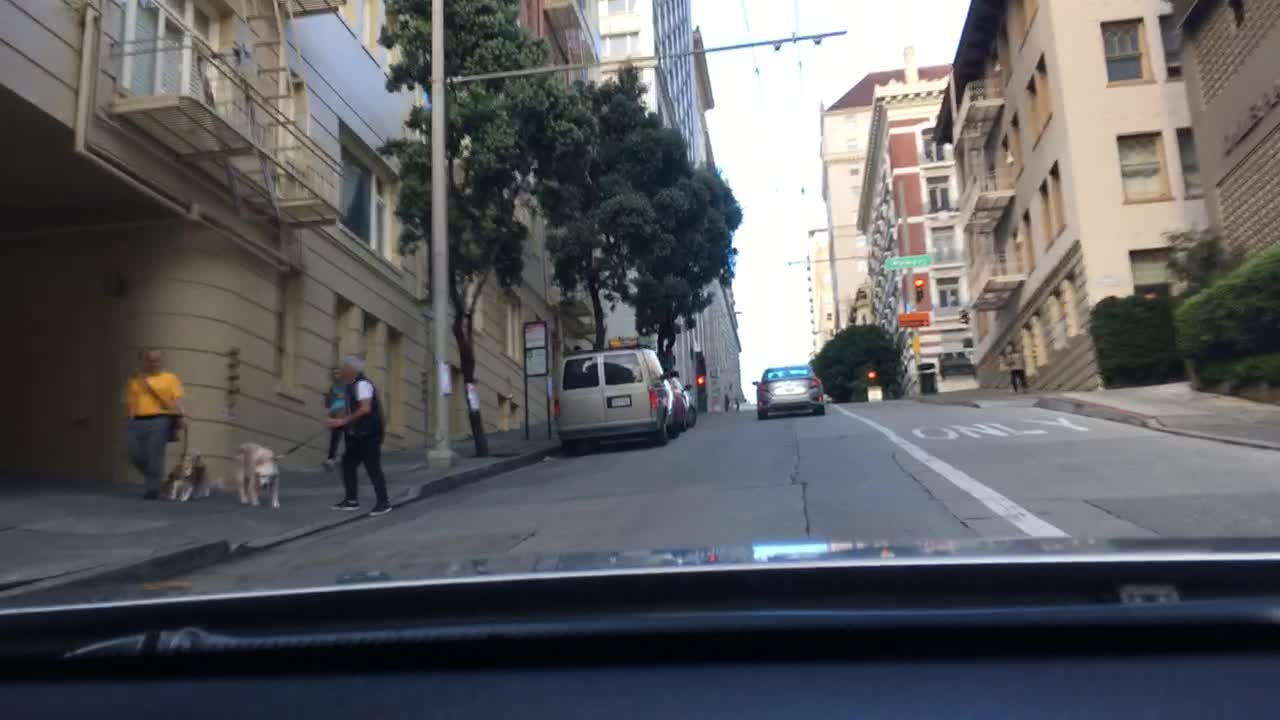car: (553, 346, 678, 453), (751, 365, 826, 420), (663, 365, 697, 432)
person: (324, 363, 392, 516), (123, 349, 186, 503), (321, 363, 347, 465), (1006, 347, 1029, 394)
traffic light: (914, 276, 925, 301), (867, 371, 877, 383), (696, 373, 704, 387)
traffic sign: (883, 253, 934, 270), (523, 350, 548, 376), (523, 321, 547, 347), (897, 312, 930, 327)
